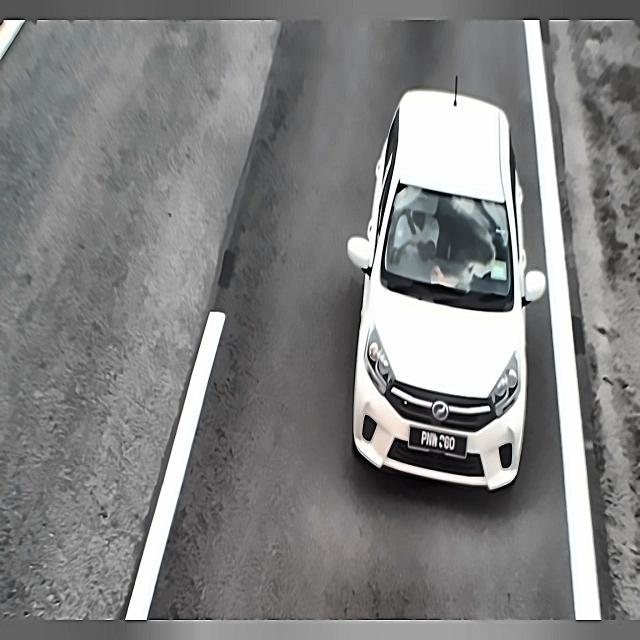car: (406, 422, 472, 464)
